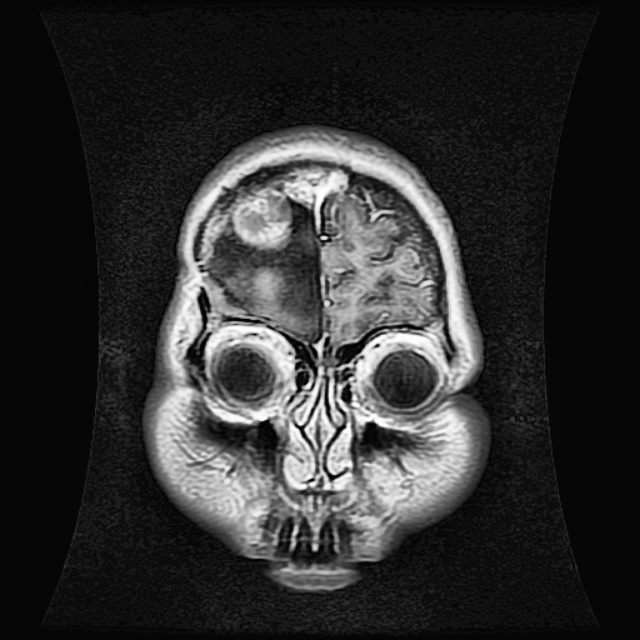Meningioma: (234, 173, 310, 248)
